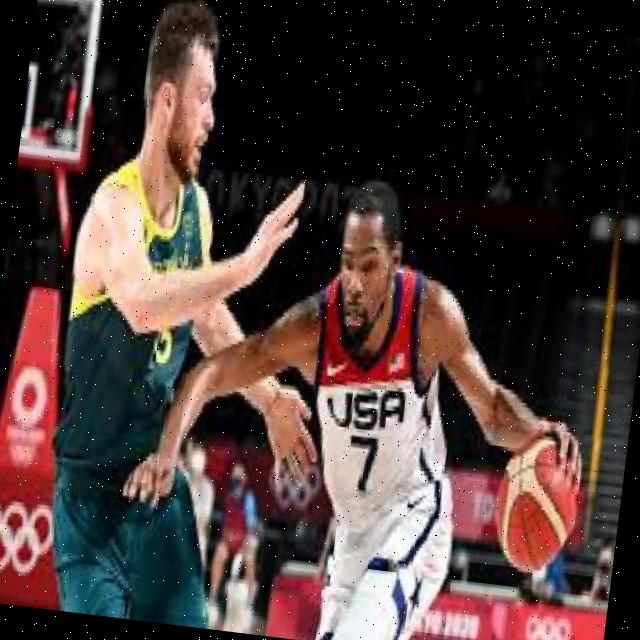ball: (488, 428, 586, 578)
